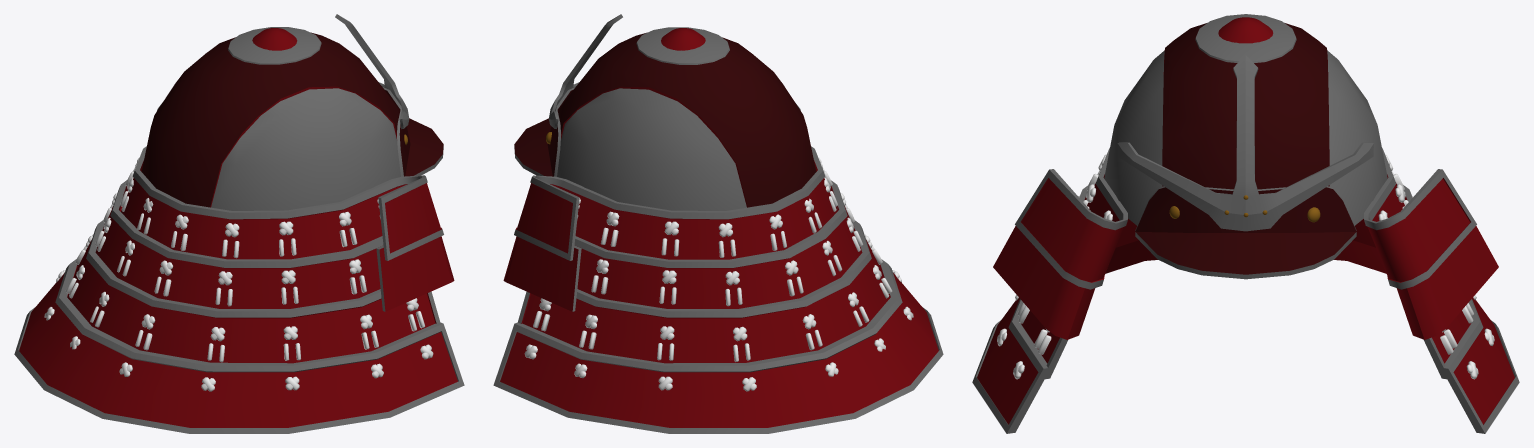
The model's file is armor.fbx.
3 renders of one model, left to right at view 1: azimuth 30°, elevation 25°; view 2: azimuth 150°, elevation 25°; view 3: azimuth 270°, elevation 25°, orthographic. The views are drawn at different scales.
Visible parts, largest first — view 1: Helmet.004_Sphere.005, Helmet.003_Sphere.004, Roga.001_Cube.038, Kozirek.001_Sphere.006, Roga.002_Cube.055, Cylinder; view 2: Helmet.004_Sphere.005, Helmet.003_Sphere.004, Roga.001_Cube.038, Kozirek.001_Sphere.006, Roga.002_Cube.055, Cylinder; view 3: Helmet.004_Sphere.005, Helmet.003_Sphere.004, Kozirek.001_Sphere.006, Roga.001_Cube.038, Cylinder.
Part boxes in pixels (box(x1,y1,x2,y2)): Helmet.004_Sphere.005: box(14, 146, 464, 433); Helmet.003_Sphere.004: box(141, 27, 400, 210); Roga.001_Cube.038: box(44, 14, 433, 391); Kozirek.001_Sphere.006: box(382, 87, 443, 176); Roga.002_Cube.055: box(70, 198, 153, 349); Cylinder: box(252, 28, 297, 50); Helmet.004_Sphere.005: box(493, 146, 943, 433); Helmet.003_Sphere.004: box(557, 27, 816, 210); Roga.001_Cube.038: box(524, 14, 913, 391); Kozirek.001_Sphere.006: box(514, 87, 575, 176); Roga.002_Cube.055: box(804, 198, 885, 351); Cylinder: box(661, 28, 705, 50); Helmet.004_Sphere.005: box(972, 148, 1519, 433); Helmet.003_Sphere.004: box(1104, 14, 1387, 225); Kozirek.001_Sphere.006: box(1135, 186, 1356, 279); Roga.001_Cube.038: box(997, 55, 1494, 379); Cylinder: box(1218, 17, 1273, 43).
Size of the model in its own units: 65.22 by 48.96 by 66.88.
